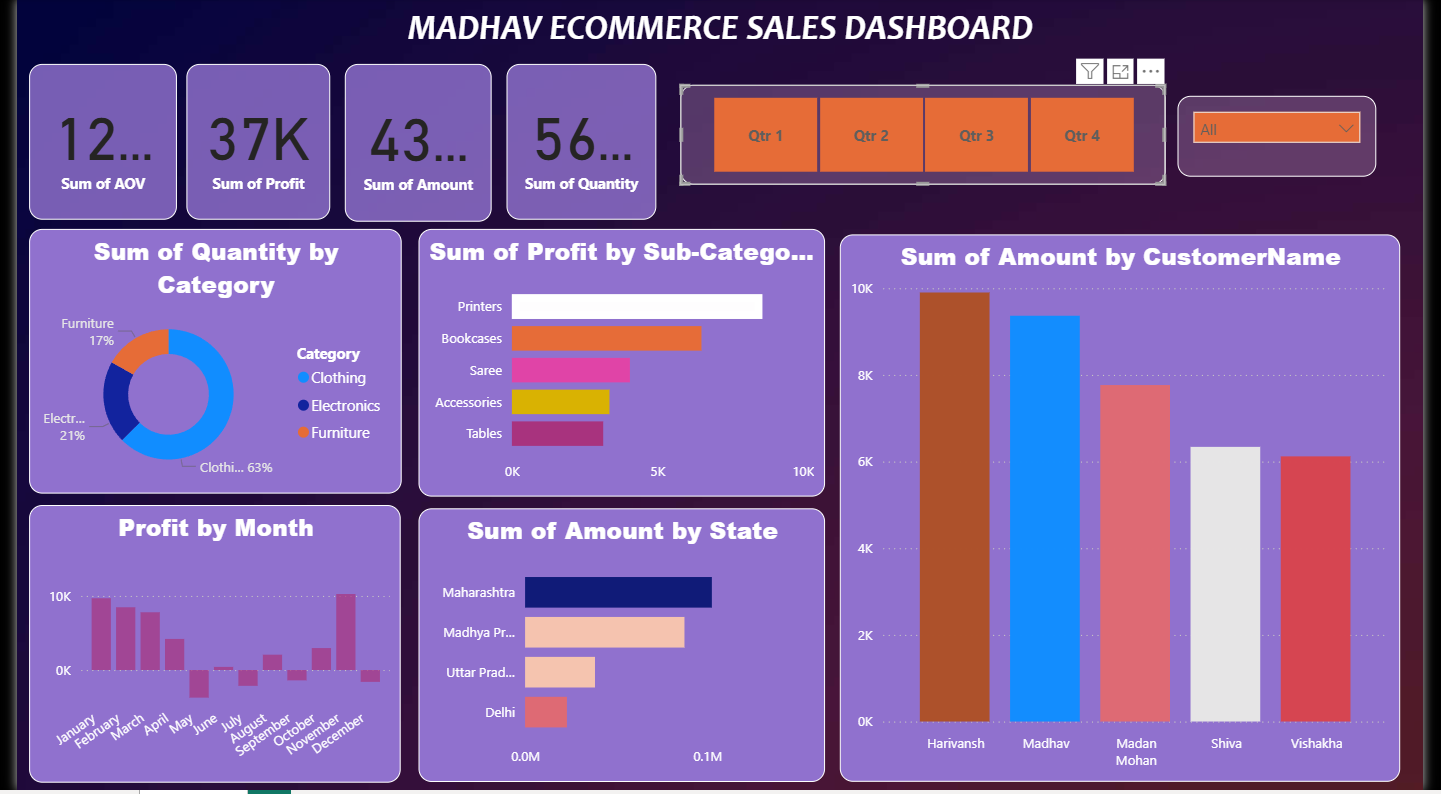

Layout of this report page (visuals, bound fields, positions):
{"tool":"powerbi","page":{"name":"dashboard","canvas":[1280,720],"ordinal":0},"visuals":[{"type":"textbox","box":[0,0,1280.4,71.8],"z":0},{"type":"columnChart","title":" Profit by Month","fields":{"Category":["Orders.Order Date.Variation.Date Hierarchy.Month"],"Y":["Sum(Details.Profit)"]},"box":[10.7,460.1,338.5,252.9],"z":1000},{"type":"barChart","fields":{"Category":["Details.Sub-Category"],"Y":["Sum(Details.Profit)"]},"box":[365.3,209.3,369.8,243.8],"z":2000},{"type":"pieChart","fields":{"Category":["Details.Category"],"Y":["Sum(Details.Quantity)"]},"box":[10.6,209.3,338.7,241.2],"z":3000},{"type":"card","fields":{"Values":["Sum(Details.Amount)"]},"box":[298.8,59.4,133.9,143.6],"z":4000},{"type":"card","fields":{"Values":["Sum(Details.Quantity)"]},"box":[445.1,59.4,136.6,141.9],"z":5000},{"type":"card","fields":{"Values":["Sum(Details.Profit)"]},"box":[154.7,59.3,131.3,142],"z":6000},{"type":"card","fields":{"Values":["Sum(Details.AOV)"]},"box":[10.6,59.4,134.8,141.9],"z":7000},{"type":"barChart","fields":{"Category":["Orders.State"],"Y":["Sum(Details.Amount)"]},"box":[365.3,463.7,369.8,249.2],"z":8000},{"type":"clusteredColumnChart","fields":{"Category":["Orders.CustomerName"],"Y":["Sum(Details.Amount)"]},"box":[748.4,214.6,509.9,498.3],"z":9000},{"type":"slicer","fields":{"Values":["Orders.Order Date.Variation.Date Hierarchy.Quarter"]},"box":[603.8,78,441.6,91.3],"z":10000},{"type":"slicer","fields":{"Values":["Orders.State"]},"box":[1056.1,87.8,180.9,73.6],"z":11000}]}

Visuals, with their boxes in screenshot pixels (x1, y1, x2, y2), scaled from the page's 1280x720 canvas onto the 1441x794 screenshot:
textbox: 0:0:1440:79
" Profit by Month" columnChart: 12:507:393:786
barChart - Details.Sub-Category x Sum(Details.Profit): 411:231:828:500
pieChart - Details.Category x Sum(Details.Quantity): 12:231:393:497
card - Sum(Details.Amount): 336:66:487:224
card - Sum(Details.Quantity): 501:66:655:222
card - Sum(Details.Profit): 174:65:322:222
card - Sum(Details.AOV): 12:66:164:222
barChart - Orders.State x Sum(Details.Amount): 411:511:828:786
clusteredColumnChart - Orders.CustomerName x Sum(Details.Amount): 843:237:1417:786
slicer - Orders.Order Date.Variation.Date Hierarchy.Quarter: 680:86:1177:187
slicer - Orders.State: 1189:97:1393:178
